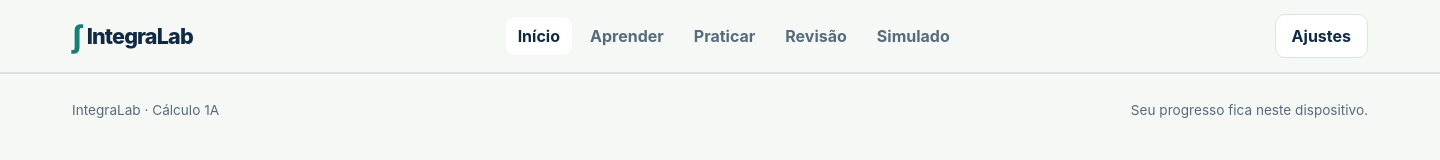
Test case: AppShell - Menu Hambúrguer Responsivo › fecha o menu quando um link de navegação é clicado
Earlier steps of the test are not shown.
Expected: the navigation bar named "navegação principal" has class "open", [506,17,950,55]
Click the link "Praticar" at point(725, 36), box [694,26,755,46]
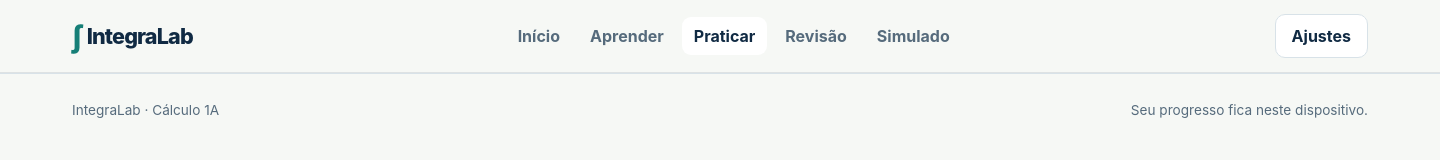
Now the navigation bar named "navegação principal" does not have class "open", box [518,17,950,55]
